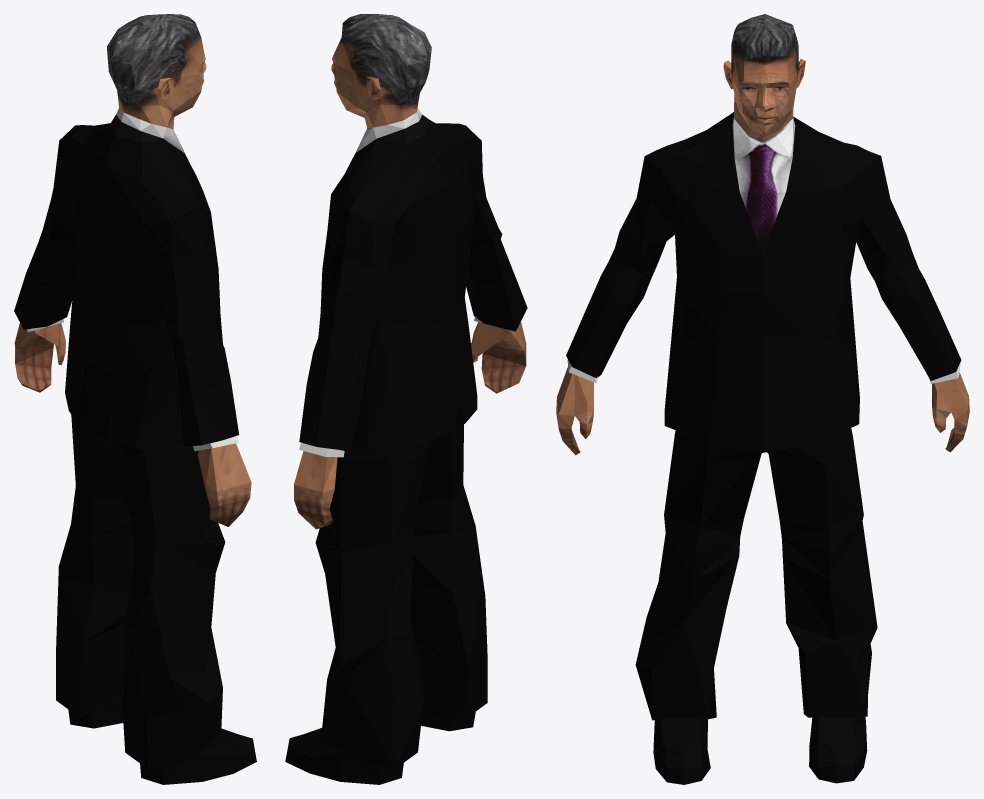
The model's file is somori.obj.
The picture shows the model from 3 angles, left to right: view 1: azimuth 30°, elevation 25°; view 2: azimuth 150°, elevation 25°; view 3: azimuth 270°, elevation 25°; orthographic projection.
Parts seen in each view (by area): view 1: _Pelvis; view 2: _Pelvis; view 3: _Pelvis.
Boxes of the visible parts, x1=… form: _Pelvis: x1=14, y1=14, x2=256, y2=784; _Pelvis: x1=285, y1=14, x2=527, y2=784; _Pelvis: x1=556, y1=14, x2=969, y2=784.
Size of the model in its own units: 0.3554 by 1.82 by 0.9239.
Materials: 1 (1 with a texture image).
